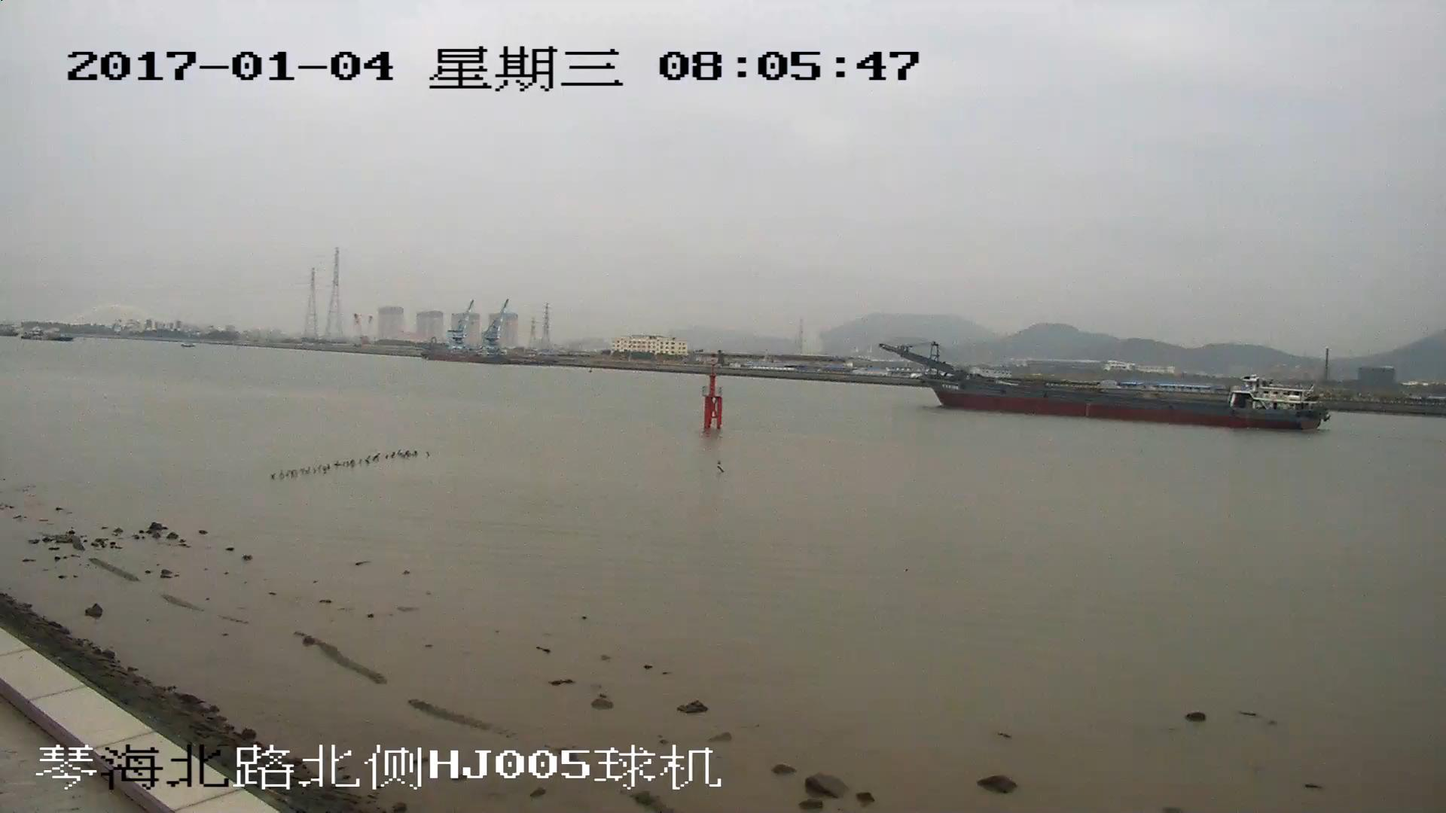bulk cargo carrier: (882, 344, 1326, 428)
